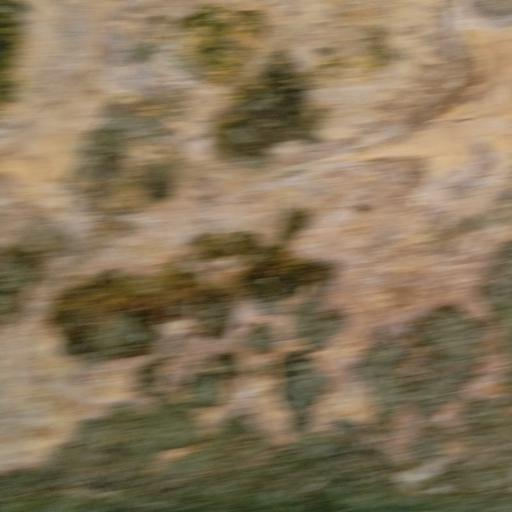algae: (12, 64, 512, 512)
